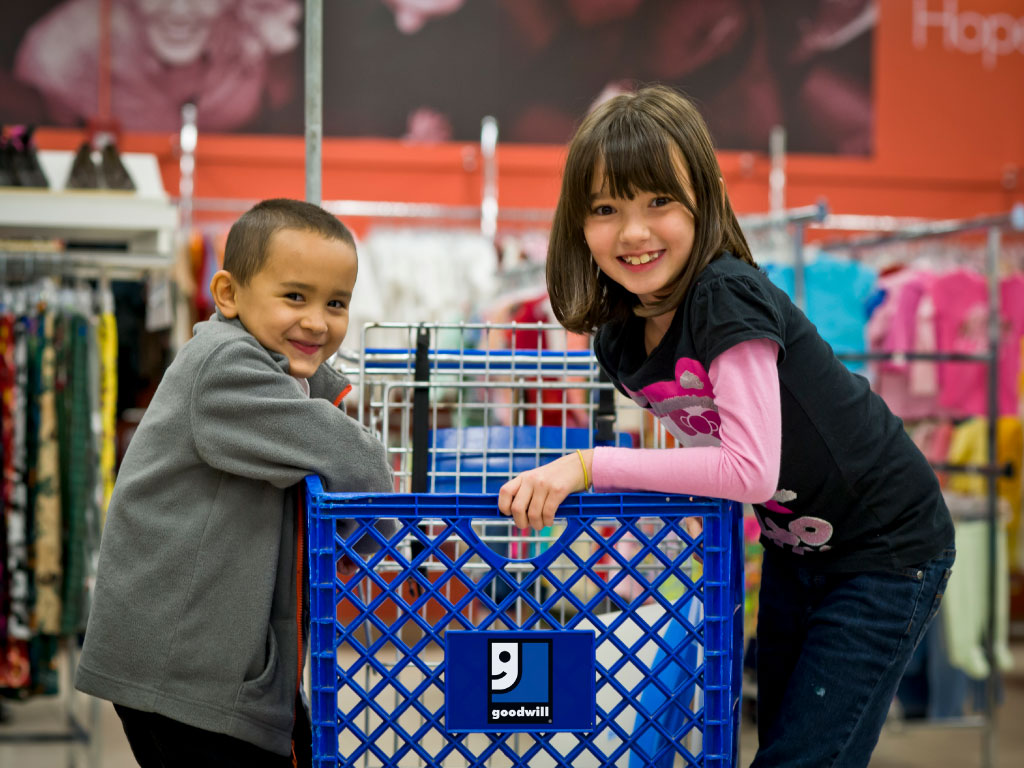Age_below20: (566, 106, 732, 294), (229, 200, 360, 374)
E_White: (566, 106, 732, 294), (229, 200, 360, 374)
Emotion_Happy: (566, 106, 732, 294), (229, 200, 360, 374)
G_ Female: (566, 106, 732, 294)
G_Male: (229, 200, 360, 374)
